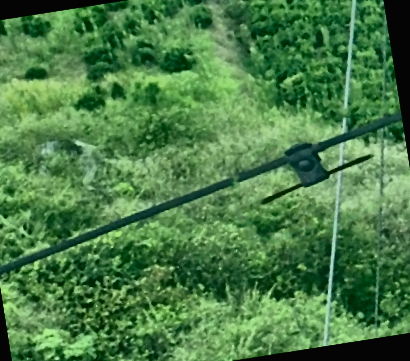damper_defect: (255, 136, 379, 205)
